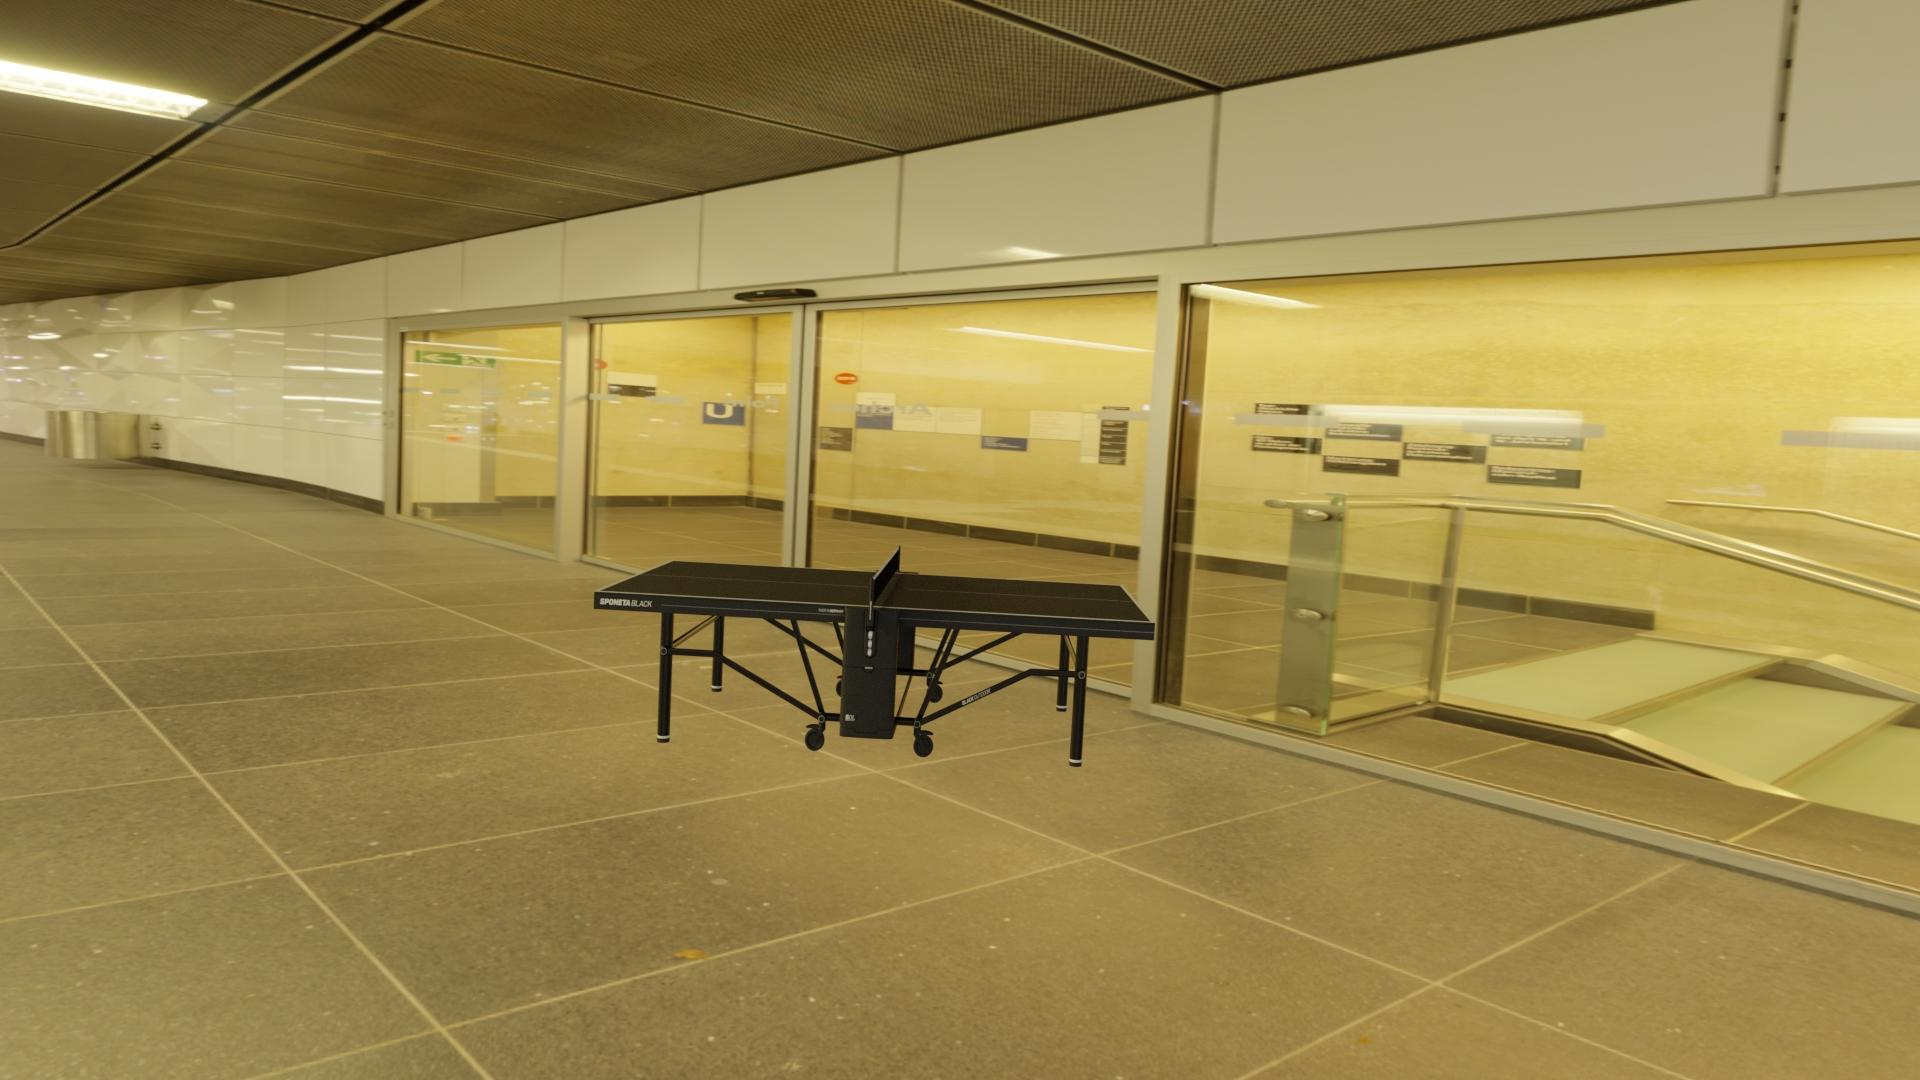table: (600, 560, 1151, 621)
